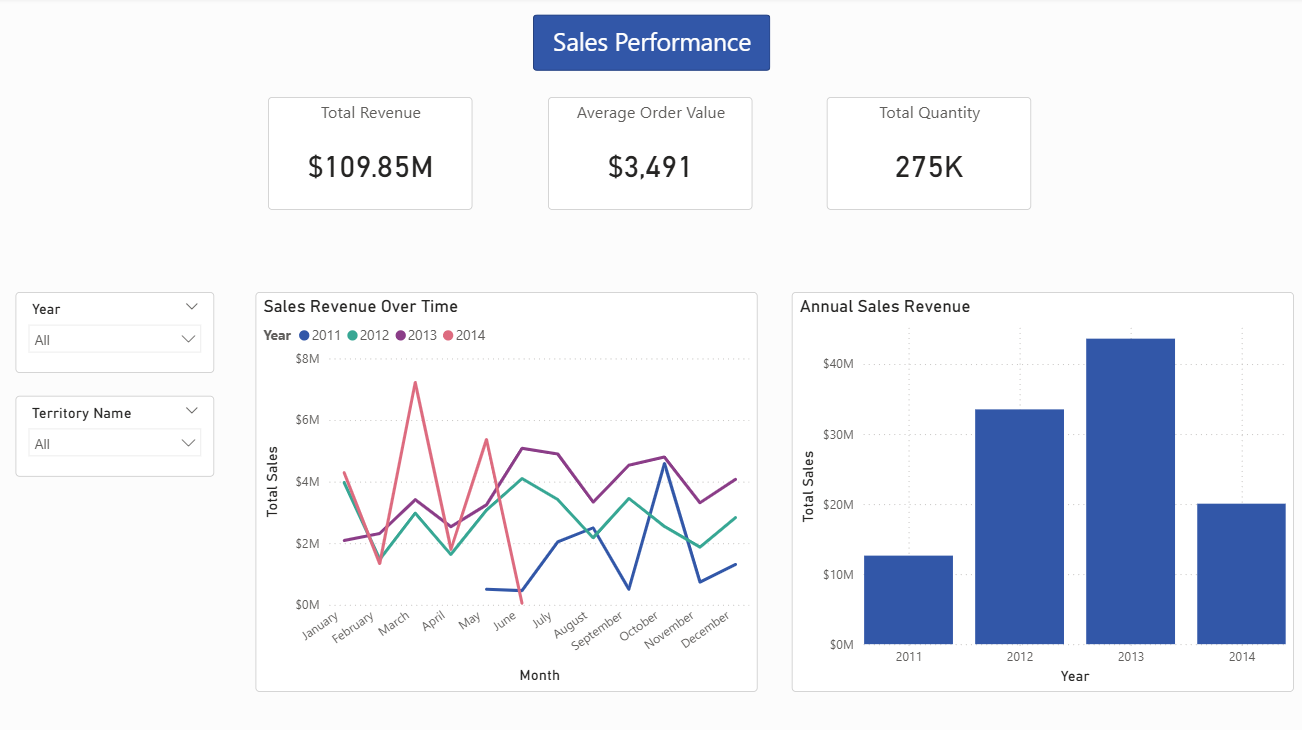

The dashboard page shown, as its layout file describes it:
{"tool":"powerbi","page":{"name":"Sales Performance","canvas":[1280,720],"ordinal":0},"visuals":[{"type":"card","title":"Total Revenue","fields":{"Values":["FactSales.Total Sales"]},"box":[264.1,97.8,200,110],"z":0},{"type":"columnChart","title":"Annual Sales Revenue","fields":{"Category":["DimDate.Year"],"Y":["FactSales.Total Sales"]},"box":[776.5,288.6,491.6,391.3],"z":1000},{"type":"card","title":"Average Order Value","fields":{"Values":["FactSales.Average Order Value"]},"box":[538,97.8,200,110],"z":2000},{"type":"slicer","fields":{"Values":["DimDate.Year"]},"box":[17.1,288.6,194.4,79.5],"z":3000},{"type":"card","title":"Total Quantity","fields":{"Values":["FactSales.Total Quantity"]},"box":[810.7,97.8,200,110],"z":4000},{"type":"slicer","fields":{"Values":["DimTerritory.TerritoryName"]},"box":[17.1,390.1,194.4,79.5],"z":5000},{"type":"lineChart","title":"Sales Revenue Over Time","fields":{"Y":["FactSales.Total Sales"],"Series":["DimDate.Year"],"Category":["DimDate.MonthName"]},"box":[251.9,288.6,491.6,391.3],"z":6000},{"type":"shape","box":[523.4,17.1,232.3,55],"z":8000,"group":"g1"},{"type":"textbox","box":[538.1,22,204.2,46.5],"z":9000,"group":"g1"},{"type":"group","id":"g1","title":"Group 1","box":[523.4,17.1,232.3,55],"z":9001}]}

Visuals, with their boxes in screenshot pixels (x1, y1, x2, y2), scaled from the page's 1280x720 canvas onto the 1302x730 screenshot:
"Total Revenue" card: pyautogui.locateOnScreen(269, 99, 472, 211)
"Annual Sales Revenue" columnChart: pyautogui.locateOnScreen(790, 293, 1290, 689)
"Average Order Value" card: pyautogui.locateOnScreen(547, 99, 751, 211)
slicer - DimDate.Year: pyautogui.locateOnScreen(17, 293, 215, 373)
"Total Quantity" card: pyautogui.locateOnScreen(825, 99, 1028, 211)
slicer - DimTerritory.TerritoryName: pyautogui.locateOnScreen(17, 396, 215, 476)
"Sales Revenue Over Time" lineChart: pyautogui.locateOnScreen(256, 293, 756, 689)
shape: pyautogui.locateOnScreen(532, 17, 769, 73)
textbox: pyautogui.locateOnScreen(547, 22, 755, 69)
"Group 1" group: pyautogui.locateOnScreen(532, 17, 769, 73)
